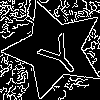Y: (30, 24, 86, 81)
